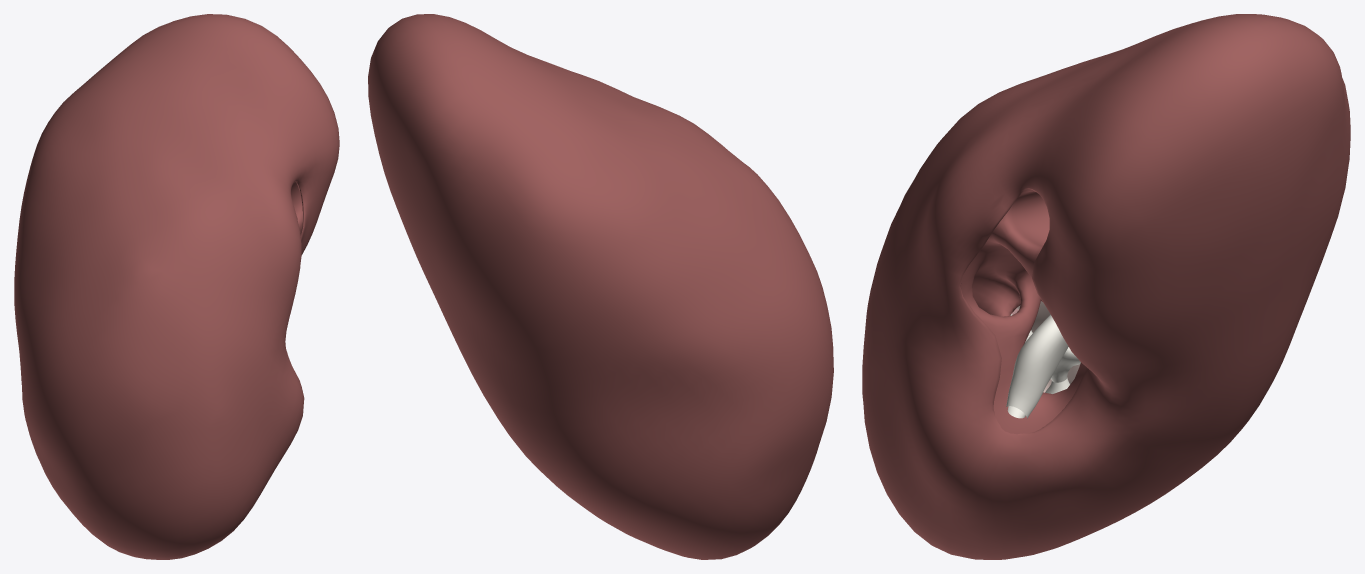
The model's file is kidney_r.glb.
The picture shows the model from 3 angles, left to right: view 1: azimuth 30°, elevation 25°; view 2: azimuth 150°, elevation 25°; view 3: azimuth 270°, elevation 25°; orthographic projection. The views are drawn at different scales.
Visible parts, largest first — view 1: VH_F_kidney_capsule_R; view 2: VH_F_kidney_capsule_R; view 3: VH_F_kidney_capsule_R, VH_F_minor_calyx_R_a.
Boxes of the visible parts, x1=… form: VH_F_kidney_capsule_R: x1=14, y1=14, x2=339, y2=559; VH_F_kidney_capsule_R: x1=368, y1=14, x2=833, y2=559; VH_F_kidney_capsule_R: x1=862, y1=14, x2=1350, y2=559; VH_F_minor_calyx_R_a: x1=1006, y1=314, x2=1080, y2=418.
Bounding box in the file's own units: 0.0734 × 0.0979 × 0.0695.
